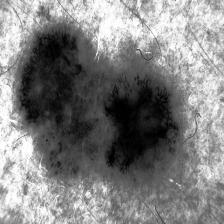Benign Marking or Mole: (15, 26, 180, 184)
